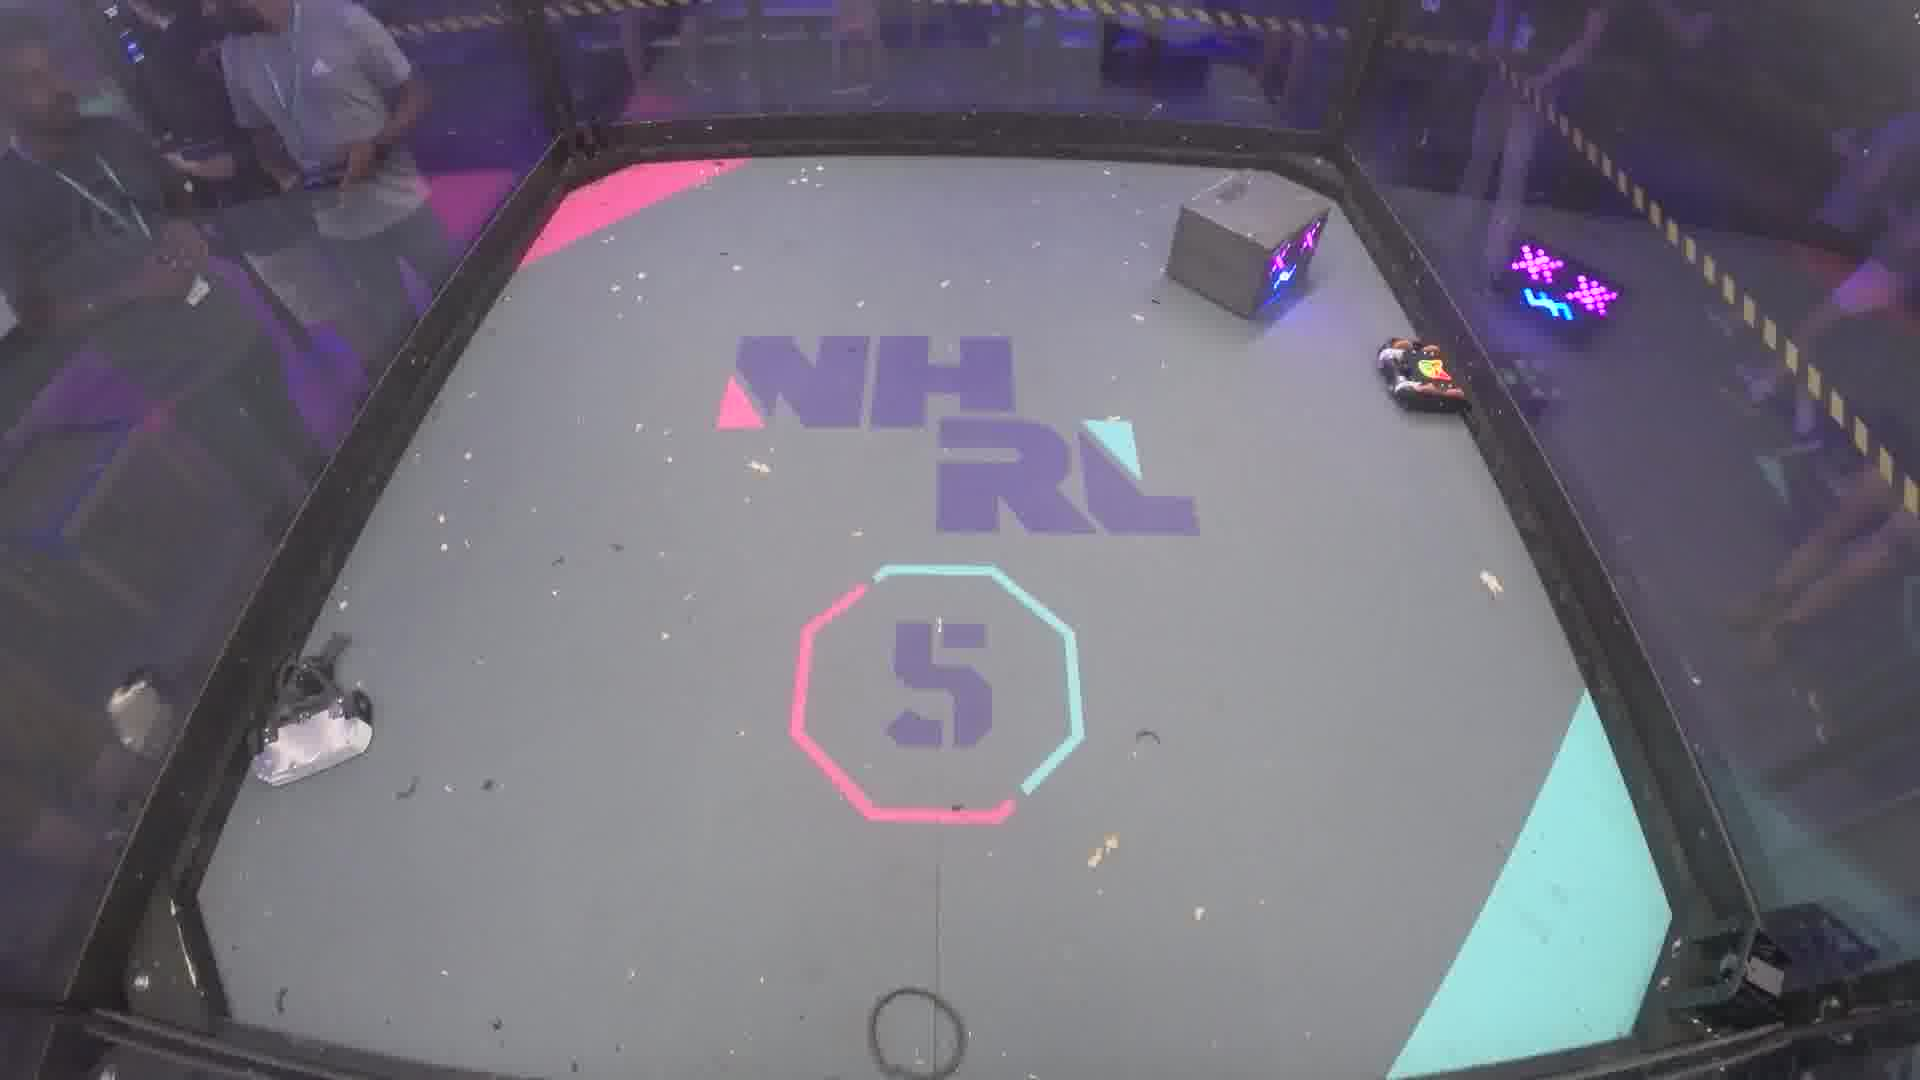belt: (866, 989, 965, 1079)
combatbot: (252, 633, 381, 786), (1373, 334, 1470, 417)
housebot: (1171, 170, 1333, 328)
